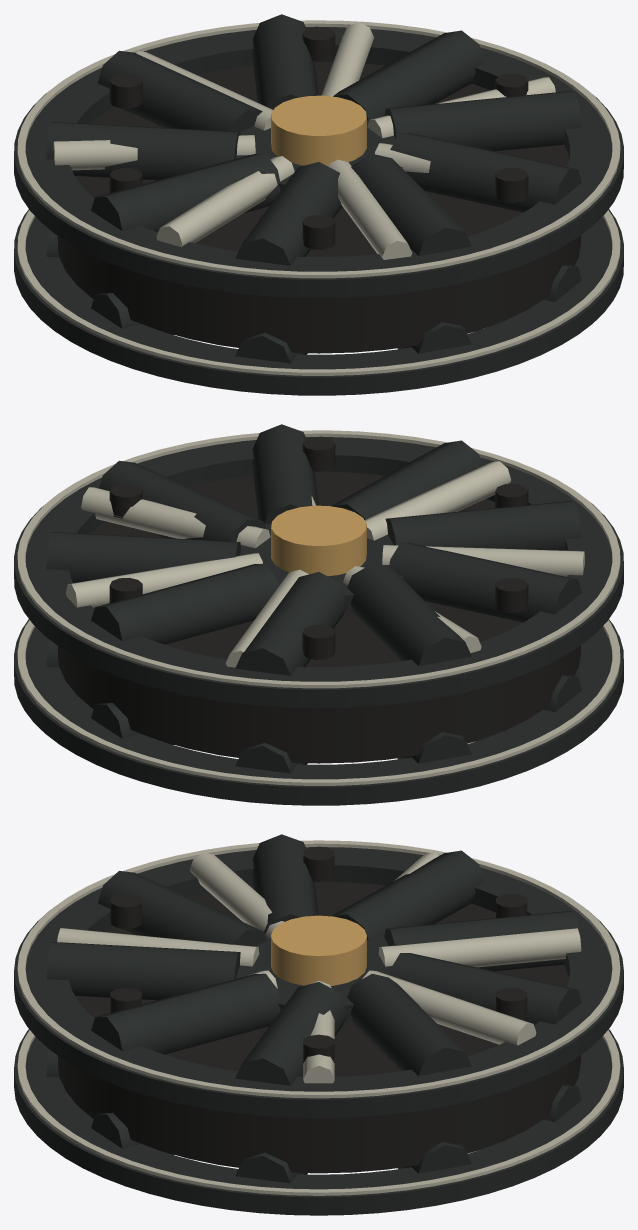
The model's file is Studio.glb.
The picture shows the model from 3 angles, top to bottom: view 1: azimuth 30°, elevation 25°; view 2: azimuth 150°, elevation 25°; view 3: azimuth 270°, elevation 25°; orthographic projection.
Parts seen in each view (by area): view 1: Pressed web (×13), Stamped outer rim (×2), Wound correction stock, Pressed lip (×2), Raised spoke (×7), Spindle, Take-up pin (×6), Spool hub; view 2: Pressed web (×13), Stamped outer rim (×2), Wound correction stock, Pressed lip (×2), Raised spoke (×6), Spindle, Take-up pin (×6), Spool hub; view 3: Stamped outer rim (×2), Pressed web (×13), Wound correction stock, Pressed lip (×2), Raised spoke (×5), Spindle, Take-up pin (×6), Spool hub.
Boxes of the visible parts, x1,y1,x2,y2 form: Pressed web (×13): [46, 14, 581, 363]; Stamped outer rim (×2): [14, 27, 623, 395]; Wound correction stock: [57, 61, 580, 353]; Pressed lip (×2): [17, 20, 620, 375]; Raised spoke (×7): [53, 22, 555, 259]; Spindle: [271, 95, 366, 165]; Take-up pin (×6): [109, 26, 528, 249]; Spool hub: [236, 114, 402, 189]; Pressed web (×13): [46, 424, 581, 773]; Stamped outer rim (×2): [14, 437, 623, 805]; Wound correction stock: [57, 471, 580, 763]; Pressed lip (×2): [17, 430, 620, 785]; Raised spoke (×6): [66, 461, 584, 667]; Spindle: [271, 505, 366, 576]; Take-up pin (×6): [109, 436, 528, 659]; Spool hub: [240, 524, 403, 610]; Stamped outer rim (×2): [14, 847, 623, 1215]; Pressed web (×13): [46, 834, 581, 1183]; Wound correction stock: [57, 881, 580, 1173]; Pressed lip (×2): [17, 840, 620, 1195]; Raised spoke (×5): [57, 852, 581, 1083]; Spindle: [271, 915, 366, 985]; Take-up pin (×6): [110, 846, 527, 1062]; Spool hub: [236, 934, 391, 1020].
Size of the model in its own units: 0.85 by 0.253 by 0.85.
